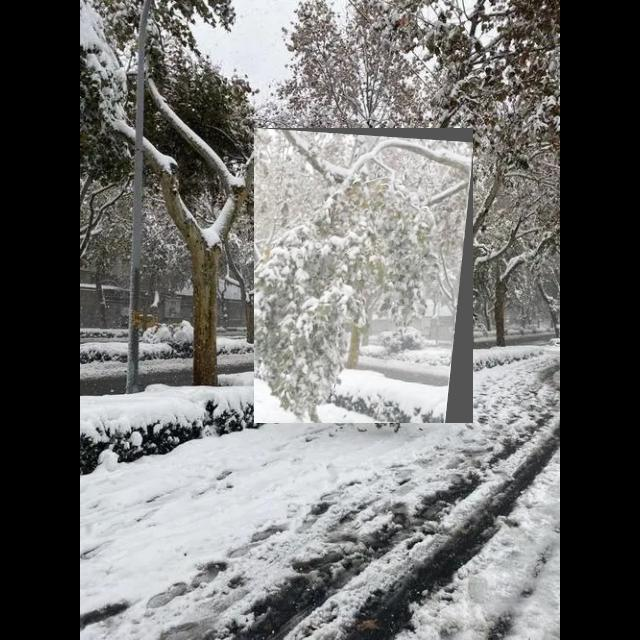fallen_tree: (254, 128, 474, 424)
